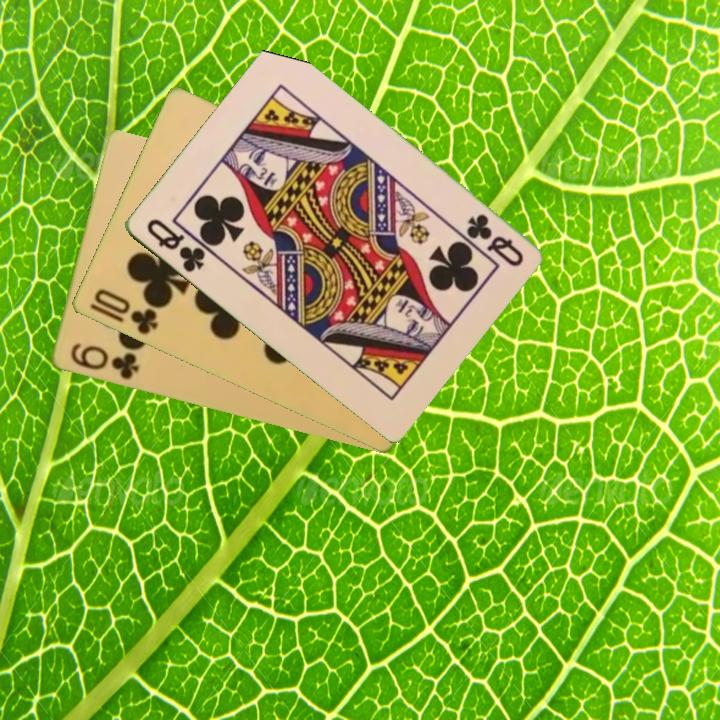10c: (85, 285, 161, 338)
6c: (66, 339, 142, 383)
Qc: (142, 215, 208, 276), (462, 210, 526, 270)
